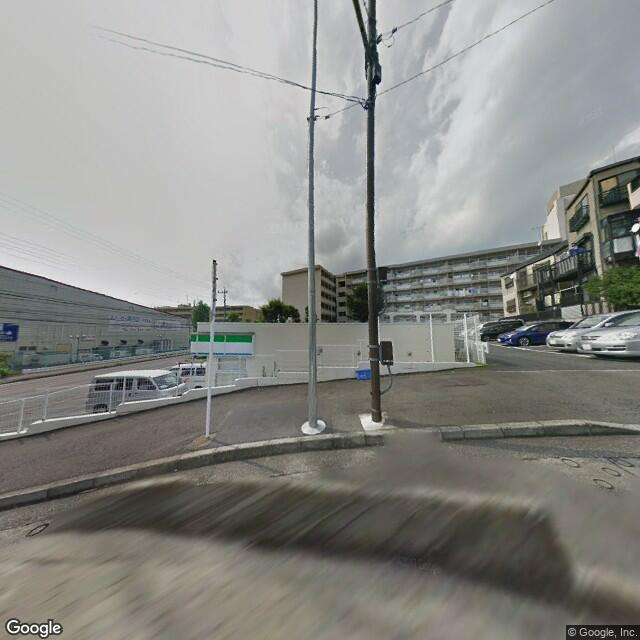family_mart: (186, 331, 260, 361)
